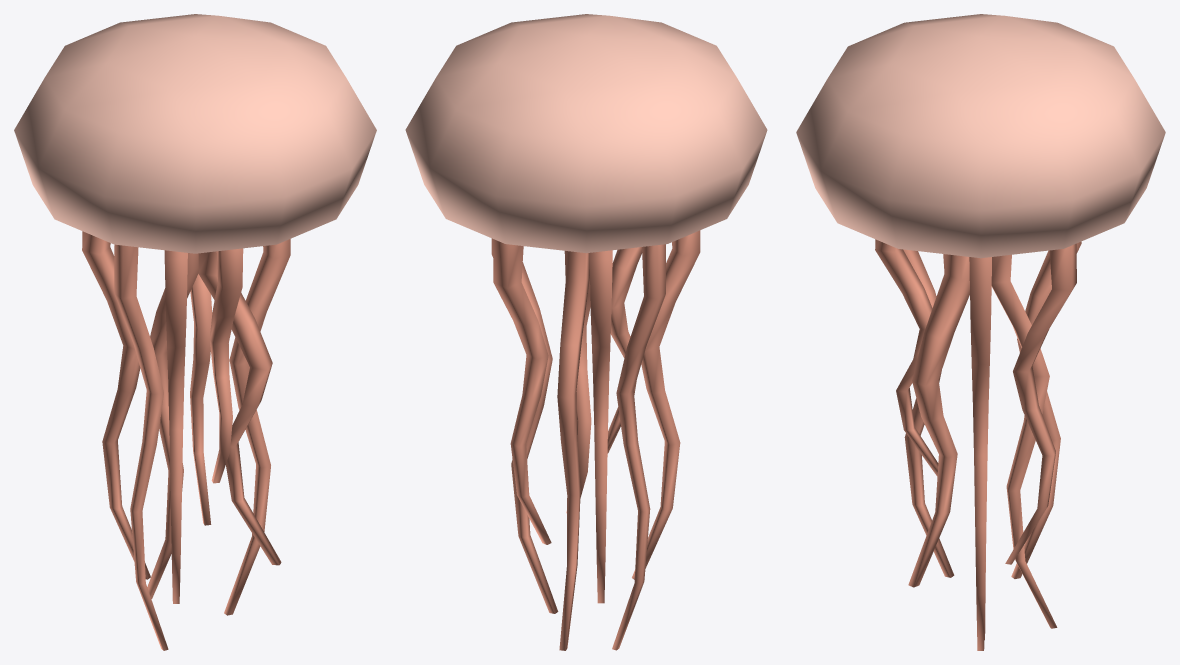
File: Medusa_004.glb
The picture shows the model from 3 angles, left to right: view 1: azimuth 30°, elevation 25°; view 2: azimuth 150°, elevation 25°; view 3: azimuth 270°, elevation 25°; orthographic projection. The views are drawn at different scales.
Visible parts, largest first — view 1: Medusa_004; view 2: Medusa_004; view 3: Medusa_004.
Boxes of the visible parts, x1,y1,x2,y2 form: Medusa_004: (14,14,376,650); Medusa_004: (405,14,767,650); Medusa_004: (796,14,1165,650).
Size of the model in its own units: 0.6191 by 1.14 by 0.6191.
1 material, 1 textured.
